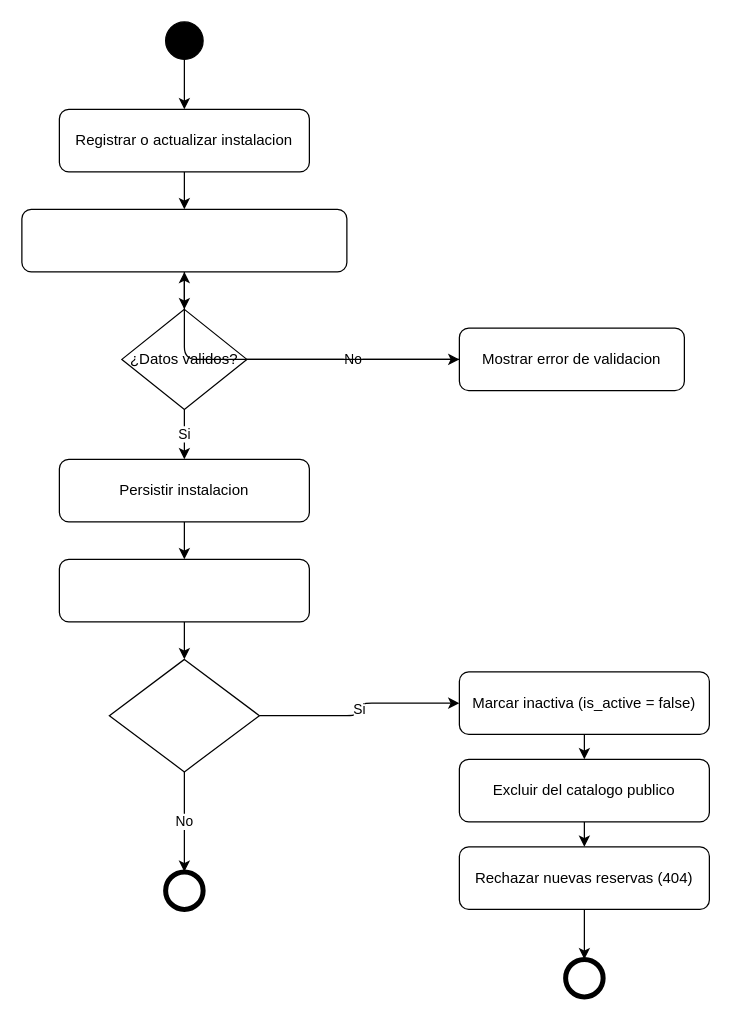
The diagram is 731 pixels wide and 1021 high, and some of its shapes have lost their labels. The shapes that lost their labels are listed below. From the top down, each one's centre as x and y in pixels, then its label:
(184,240): Completar nombre, tipo, capacidad, descripcion y estado
(183,590): Instalacion disponible para reservar
(183,715): ¿Marcar fuera de servicio?
